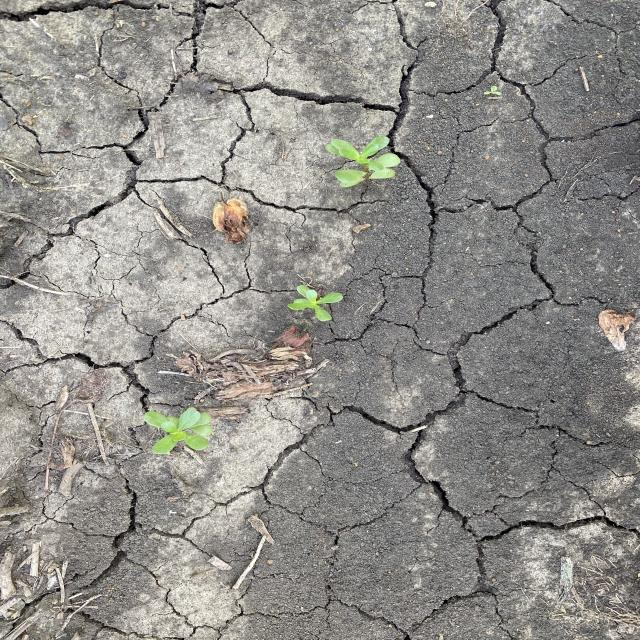Purslane: (322, 133, 400, 189), (141, 404, 216, 456), (286, 282, 348, 325)
